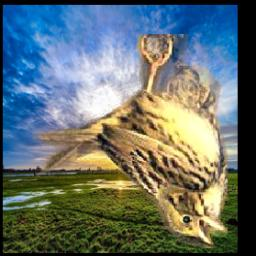Sparrow: (33, 35, 228, 249)
